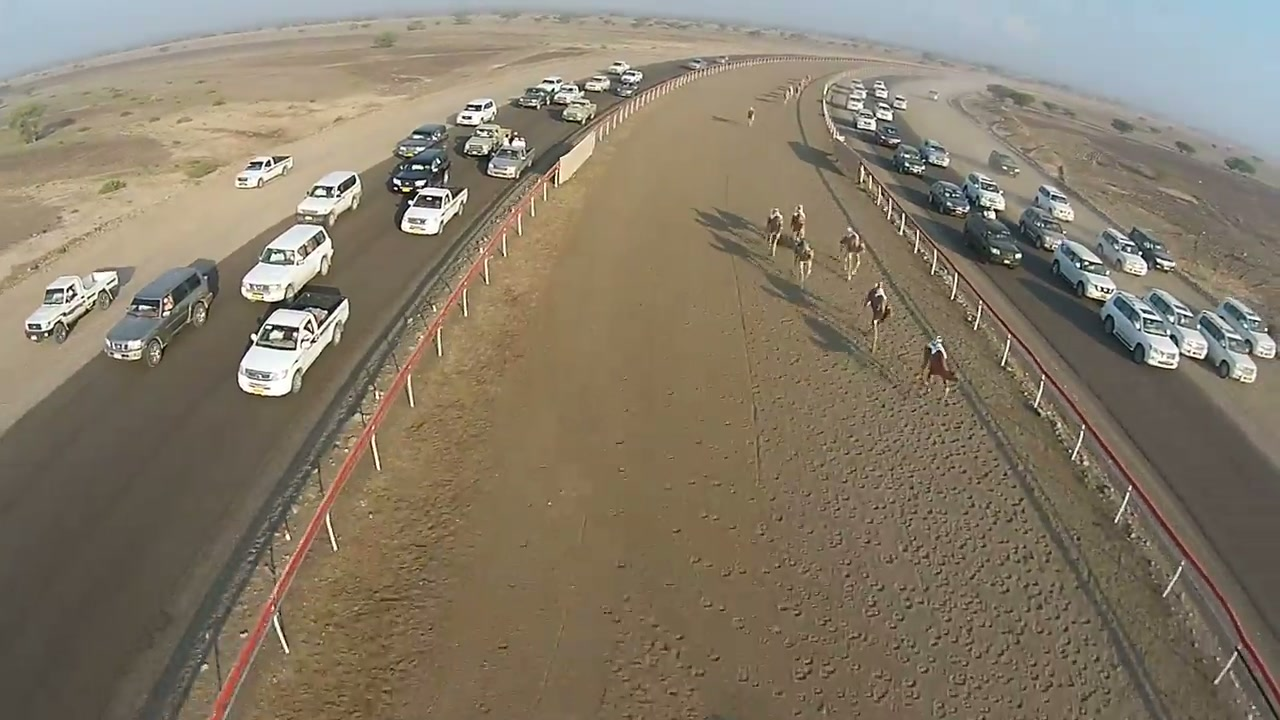animal_foot_print: (706, 353, 1131, 717)
